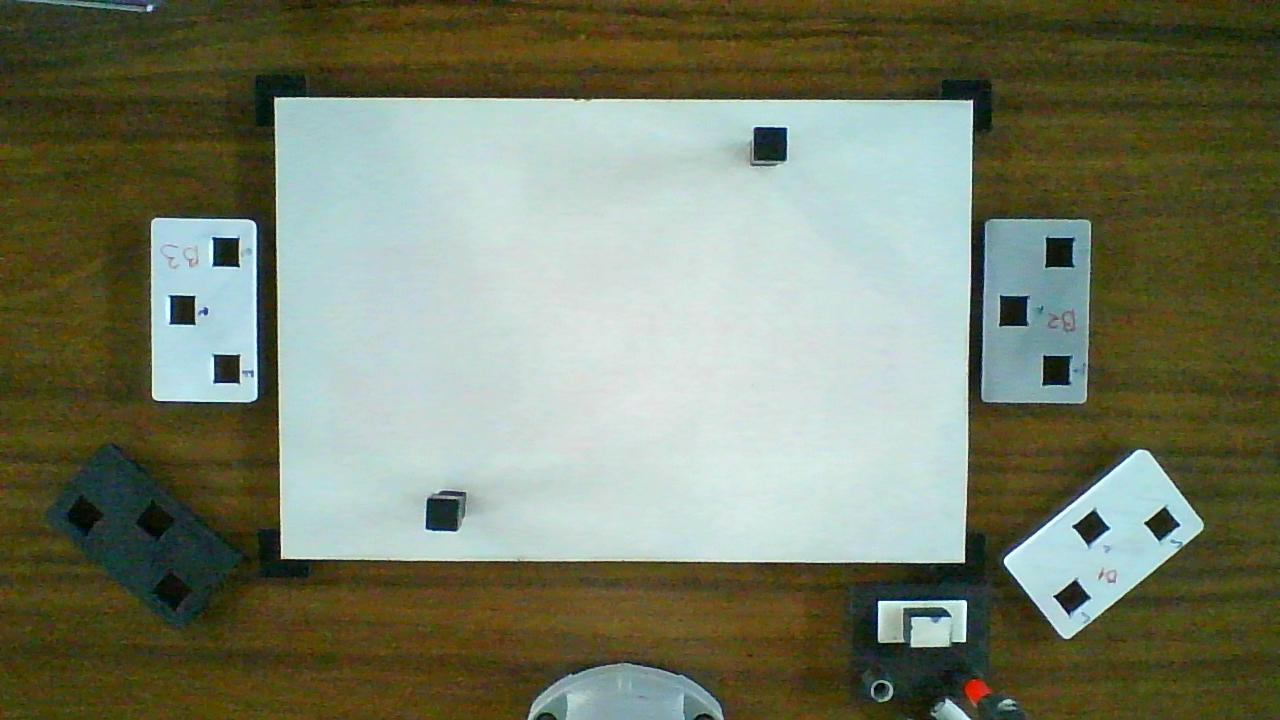peca_preta: (755, 128, 786, 160), (427, 499, 457, 530)
